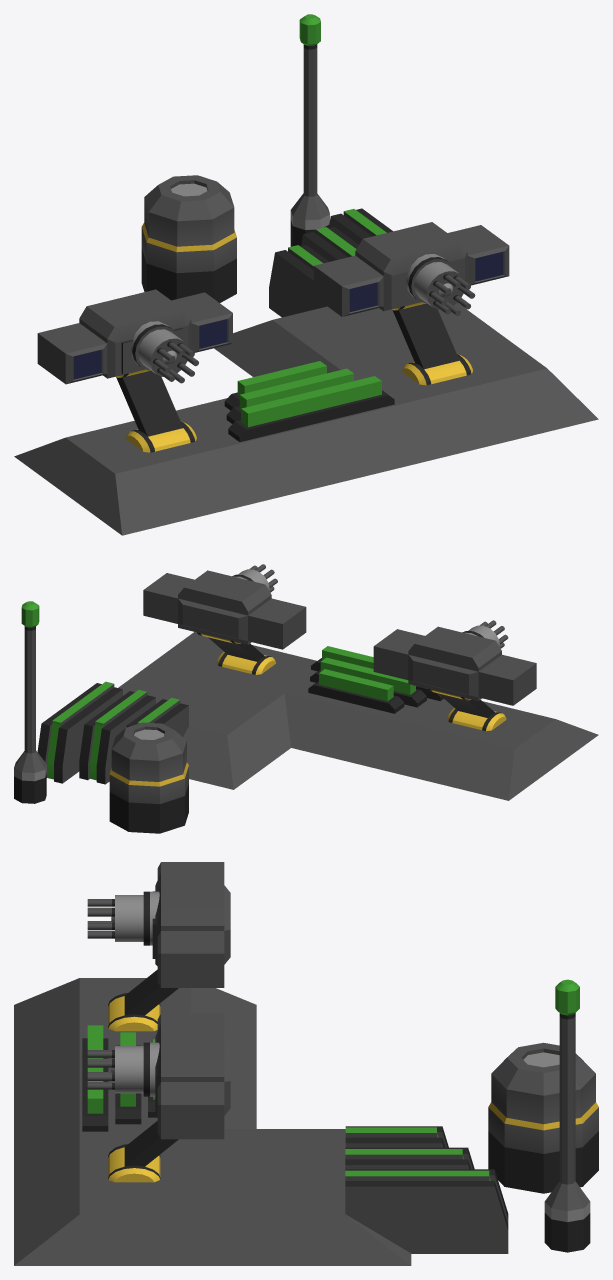
Rendered from gunSize3L.glb.
The picture shows the model from 3 angles, top to bottom: view 1: azimuth 30°, elevation 25°; view 2: azimuth 150°, elevation 25°; view 3: azimuth 270°, elevation 25°; orthographic projection. The views are drawn at different scales.
Visible parts, largest first — view 1: Gun Size 3 L; view 2: Gun Size 3 L; view 3: Gun Size 3 L.
Part boxes in pixels (box(x1,y1,x2,y2)): Gun Size 3 L: box(14, 14, 598, 535); Gun Size 3 L: box(14, 564, 598, 833); Gun Size 3 L: box(14, 862, 598, 1265).
Size of the model in its own units: 1.93 by 0.9018 by 1.83.
